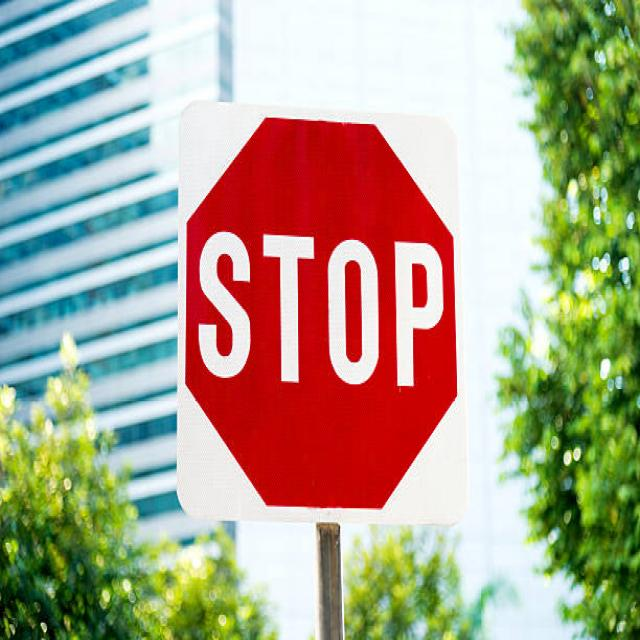stop: (186, 113, 458, 514)
